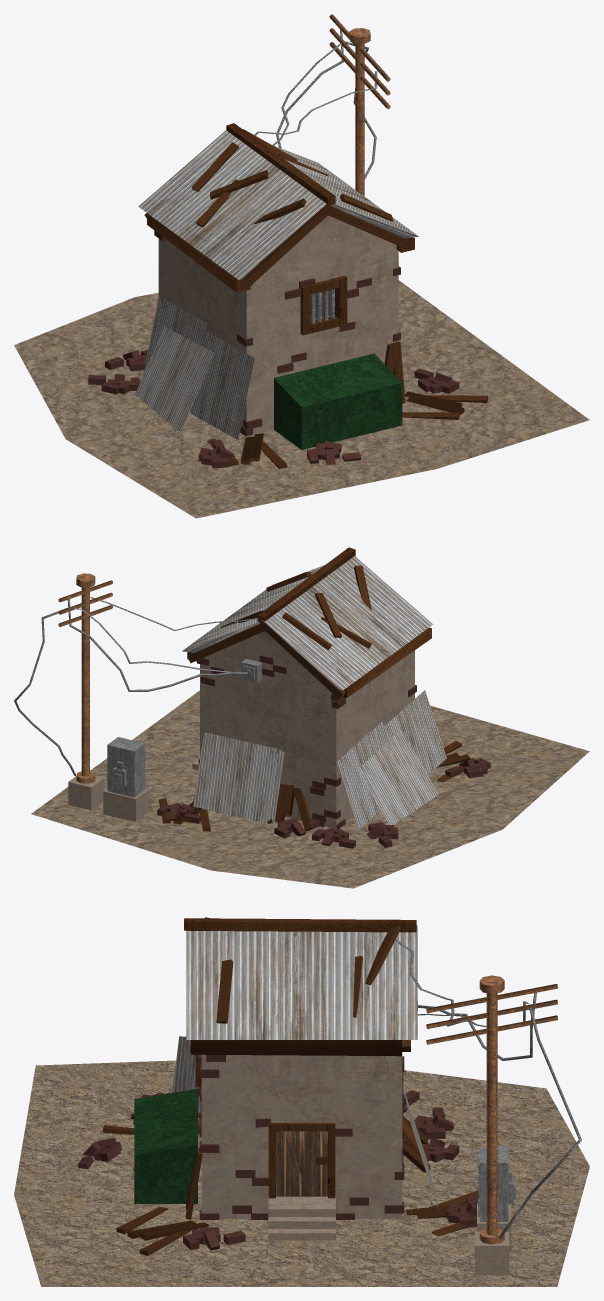
Rendered from casa_p4.gltf.
The picture shows the model from 3 angles, top to bottom: view 1: azimuth 30°, elevation 25°; view 2: azimuth 150°, elevation 25°; view 3: azimuth 270°, elevation 25°; orthographic projection. The views are drawn at different scales.
Visible parts, largest first — view 1: casa_p4; view 2: casa_p4; view 3: casa_p4.
Boxes of the visible parts, x1,y1,x2,y2 form: casa_p4: [14, 14, 589, 518]; casa_p4: [14, 547, 589, 888]; casa_p4: [14, 917, 589, 1286].
Bounding box in the file's own units: 12 × 7 × 12.28.
12 materials, 12 textured.
